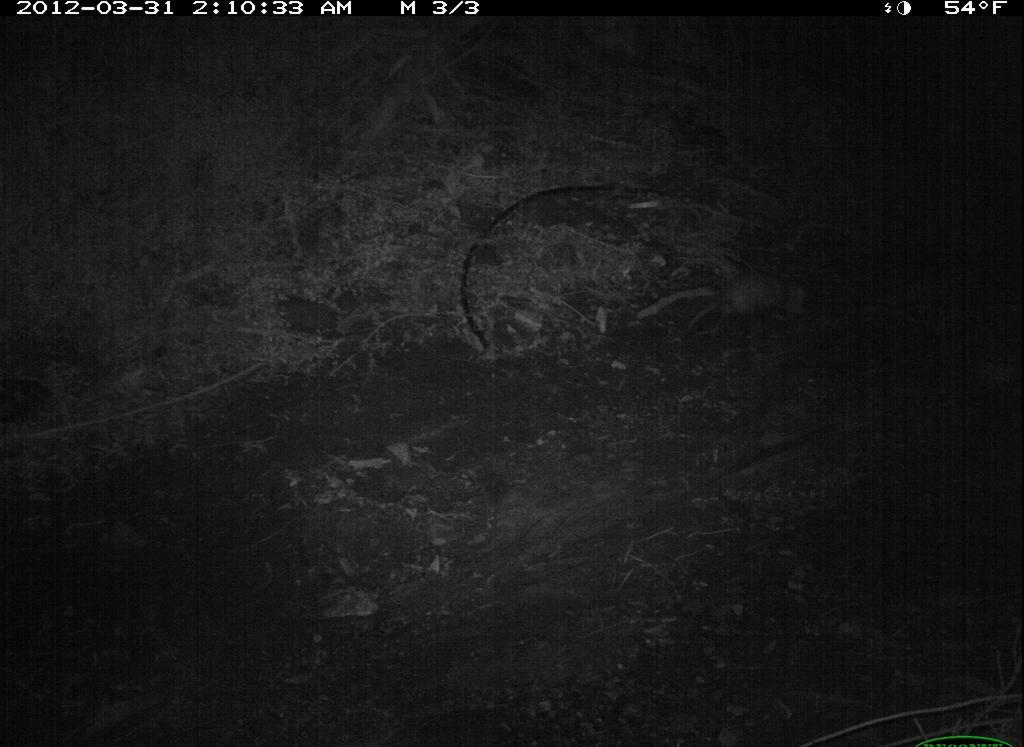opossum: (690, 264, 813, 337)
